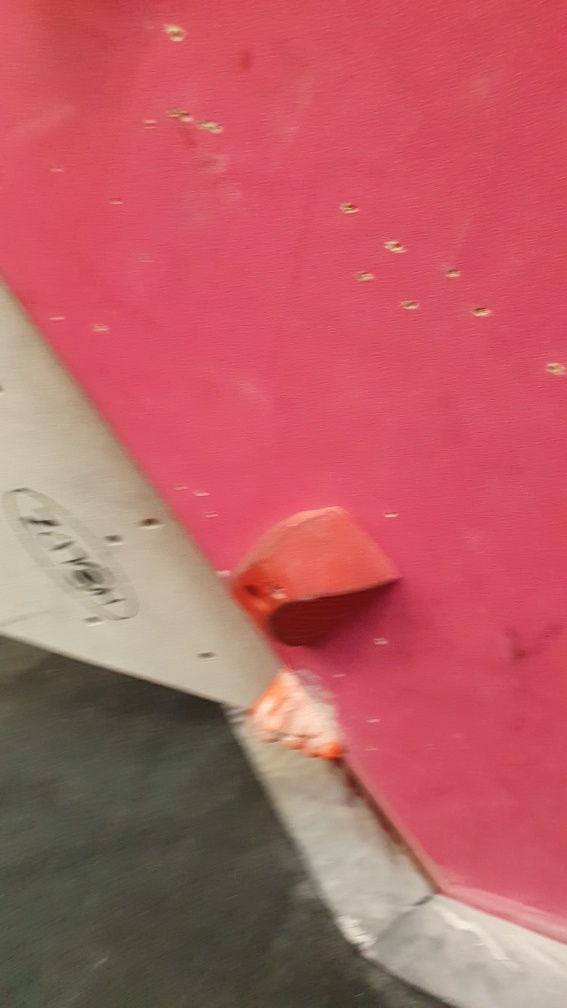Jug: (242, 666, 358, 766)
Pinch: (228, 497, 402, 654)
